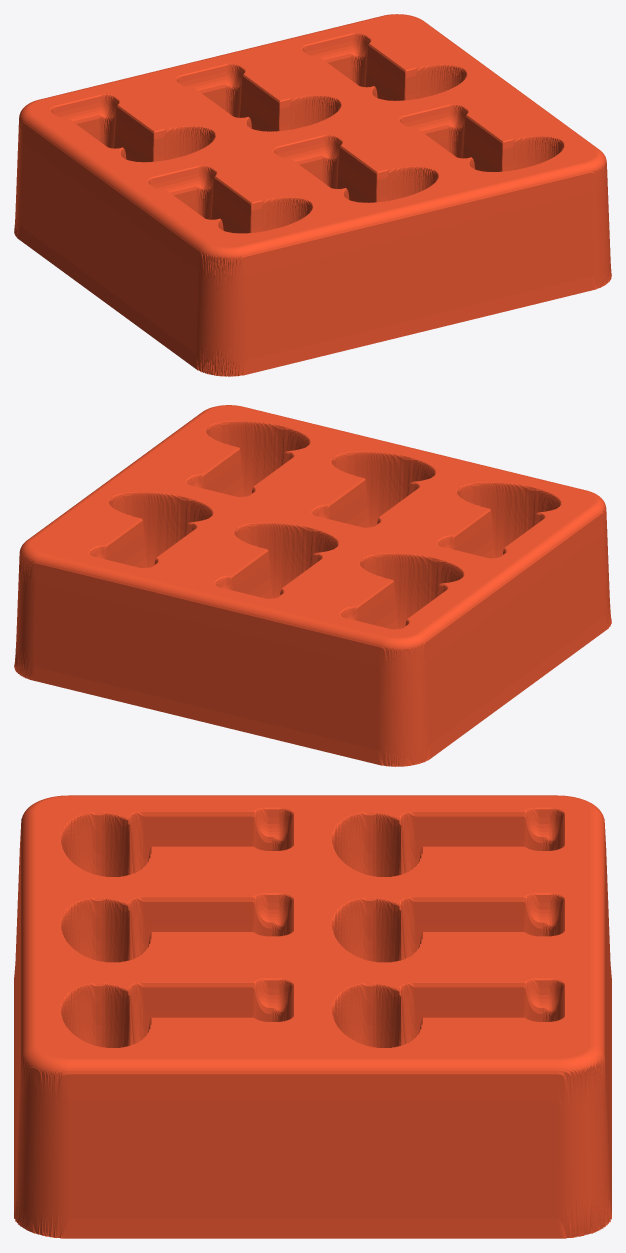
File: mold.glb
The picture shows the model from 3 angles, top to bottom: view 1: azimuth 30°, elevation 25°; view 2: azimuth 150°, elevation 25°; view 3: azimuth 270°, elevation 25°; orthographic projection. The views are drawn at different scales.
Parts seen in each view (by area): view 1: geometry_0; view 2: geometry_0; view 3: geometry_0.
Part boxes in pixels (left/top/right/bottom): geometry_0: left=14, top=14, right=611, bottom=376; geometry_0: left=14, top=405, right=611, bottom=766; geometry_0: left=14, top=795, right=611, bottom=1238.
Bounding box in the file's own units: 0.1103 × 0.0314 × 0.0996.
